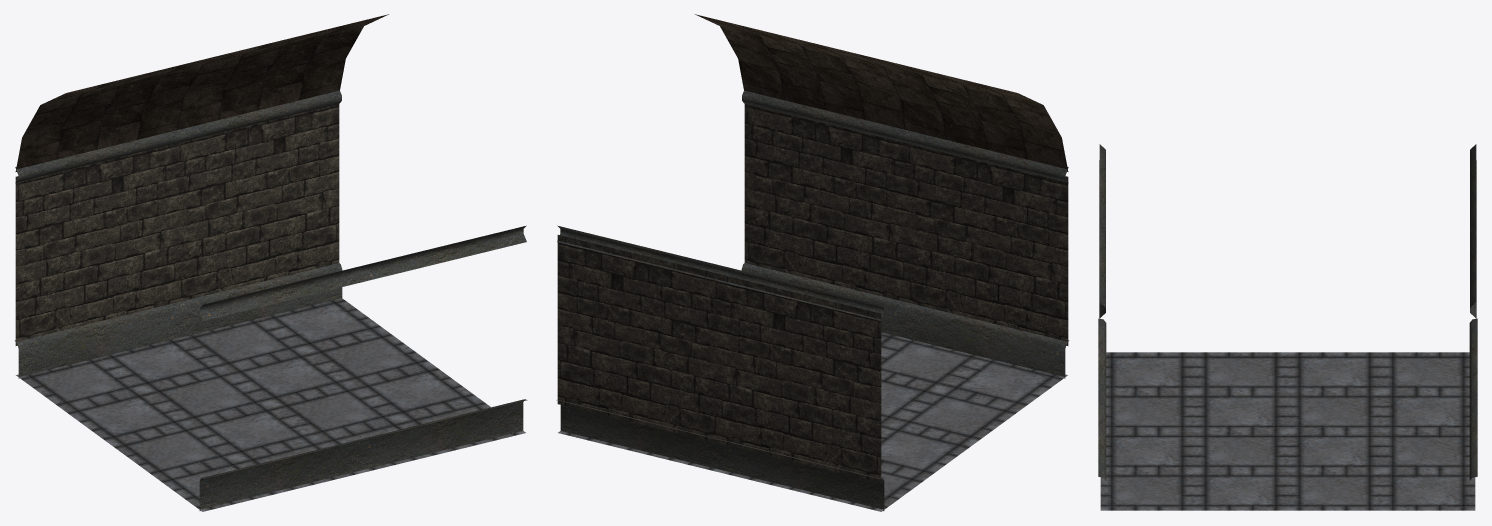
Rendered from HallWay.fbx.
3 views of the same model, side by side, from view 1: azimuth 30°, elevation 25°; view 2: azimuth 150°, elevation 25°; view 3: azimuth 270°, elevation 25° (orthographic).
Parts seen in each view (by area): view 1: Plane_002, Plane_015, Plane_008, Mesh, Mesh_001, Plane_011, Plane_000; view 2: Plane_002, Plane_009, Plane_008, Plane_015, Mesh_001, Mesh, Plane_011, Plane_000; view 3: Plane_015, Mesh_001, Mesh, Plane_000, Plane_011.
Part boxes in pixels (box(x1,y1,x2,y2)): Plane_002: box(15, 104, 339, 345); Plane_015: box(16, 298, 525, 511); Plane_008: box(15, 14, 388, 171); Mesh: box(199, 399, 527, 510); Mesh_001: box(14, 263, 342, 378); Plane_011: box(200, 225, 526, 320); Plane_000: box(15, 90, 341, 182); Plane_002: box(557, 235, 881, 482); Plane_009: box(744, 104, 1068, 345); Plane_008: box(695, 14, 1068, 171); Plane_015: box(558, 332, 1067, 511); Mesh_001: box(556, 399, 884, 510); Mesh: box(741, 263, 1069, 378); Plane_011: box(742, 90, 1068, 182); Plane_000: box(557, 225, 883, 320); Plane_015: box(1100, 352, 1475, 510); Mesh_001: box(1469, 318, 1477, 480); Mesh: box(1098, 318, 1106, 480); Plane_000: box(1470, 144, 1476, 318); Plane_011: box(1099, 144, 1105, 318).
Size of the model in its own units: 4 by 4 by 4.05.
